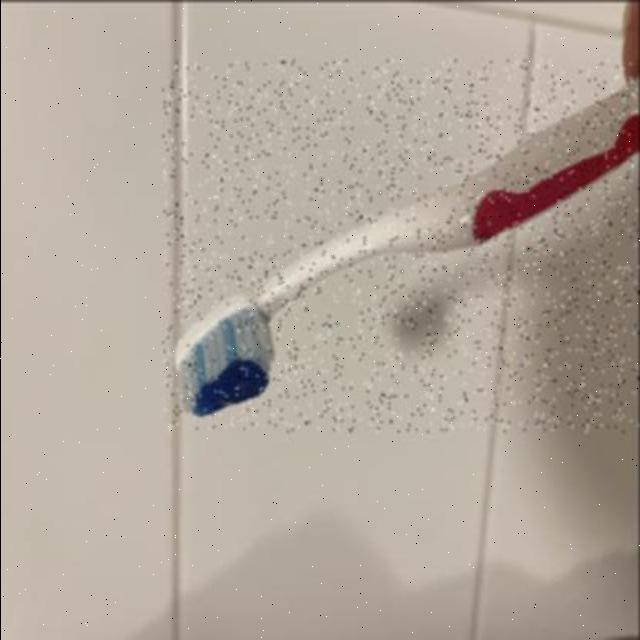toothbrush: (164, 59, 640, 431)
